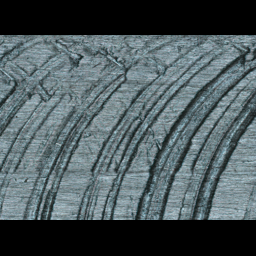d: (0, 35, 253, 218)
